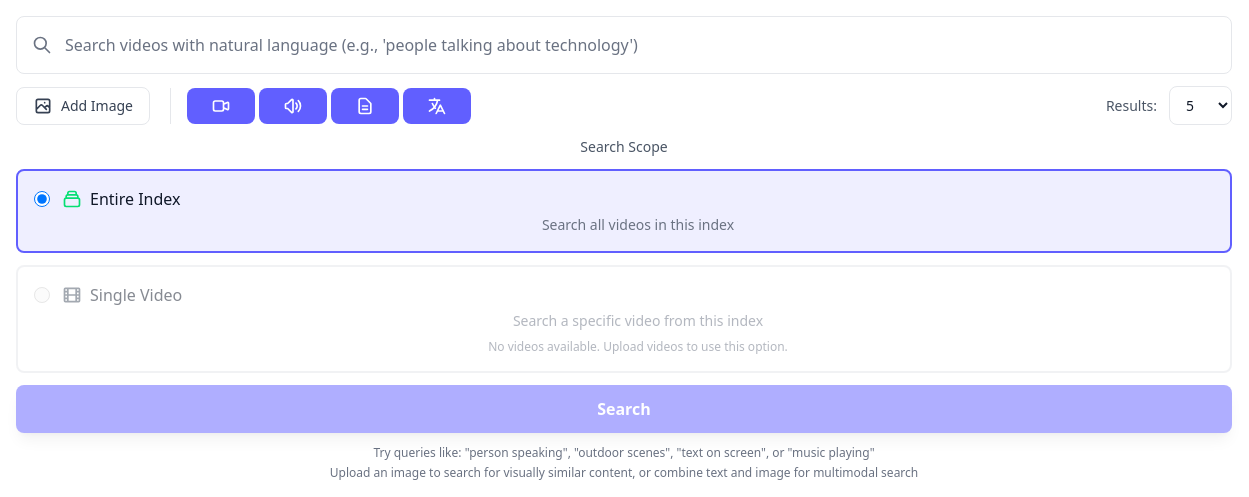
Test: SearchBar › shows clear button when query is entered
The image size is (1249, 497).
Replace the text in the field with placeholder "Search videos with natural language" with "test query". click: (624, 45)
box: [16, 16, 1232, 74]
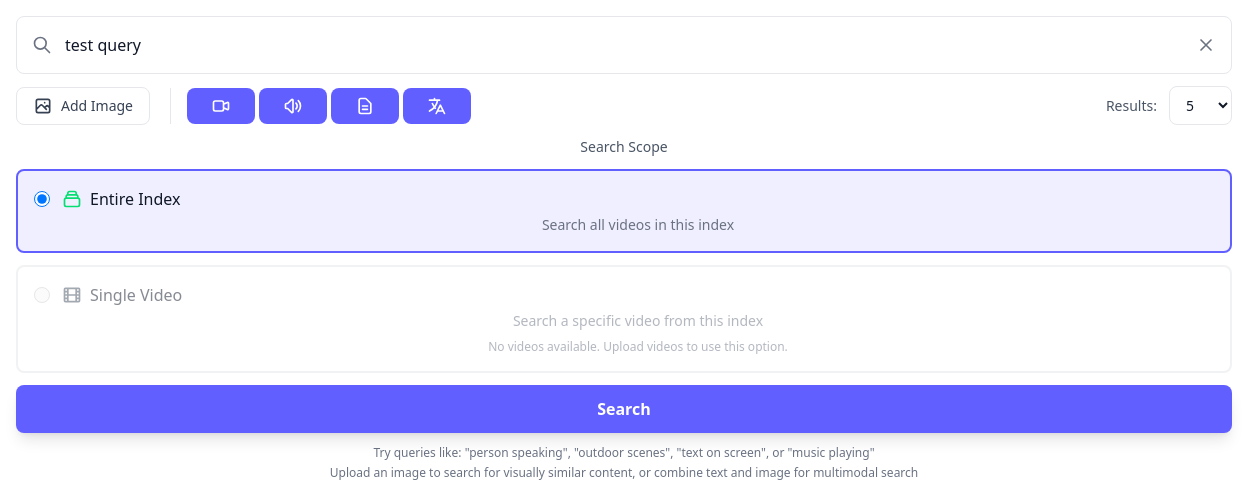
Expected: the button titled "Clear" is shown, [1196, 16, 1232, 74]
